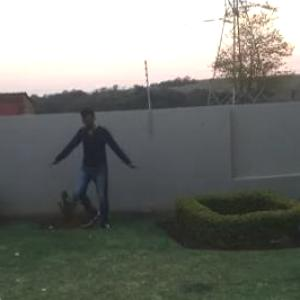land: (50, 114, 138, 237)
